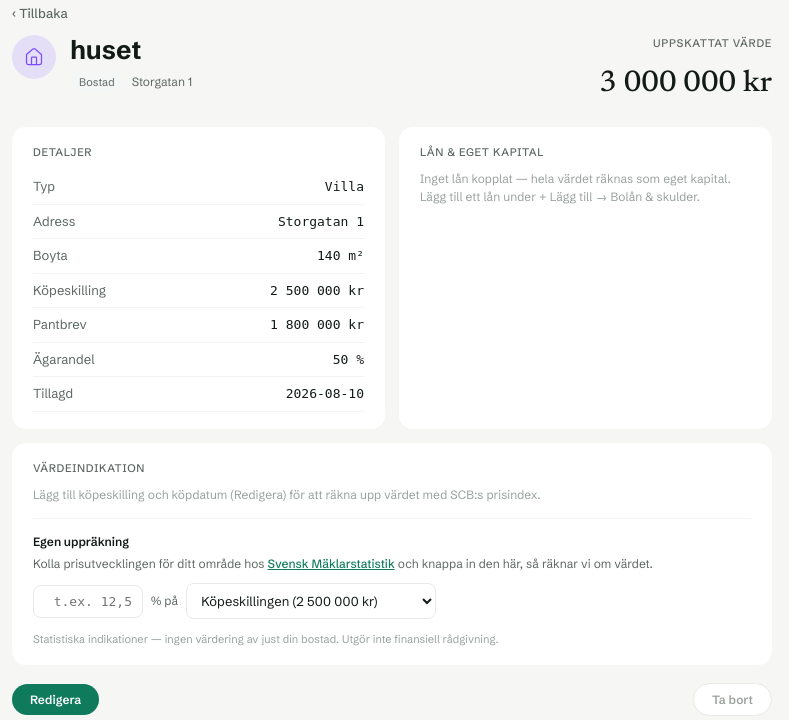
Test case: ManualAssetView › Ägande-sektionen (familjeläge) › prefills me from a legacy ownershipShare and others with 0
This screenshot has width=789, height=720.
Click the button "Redigera" at (56, 699), box [12,684,99,714]
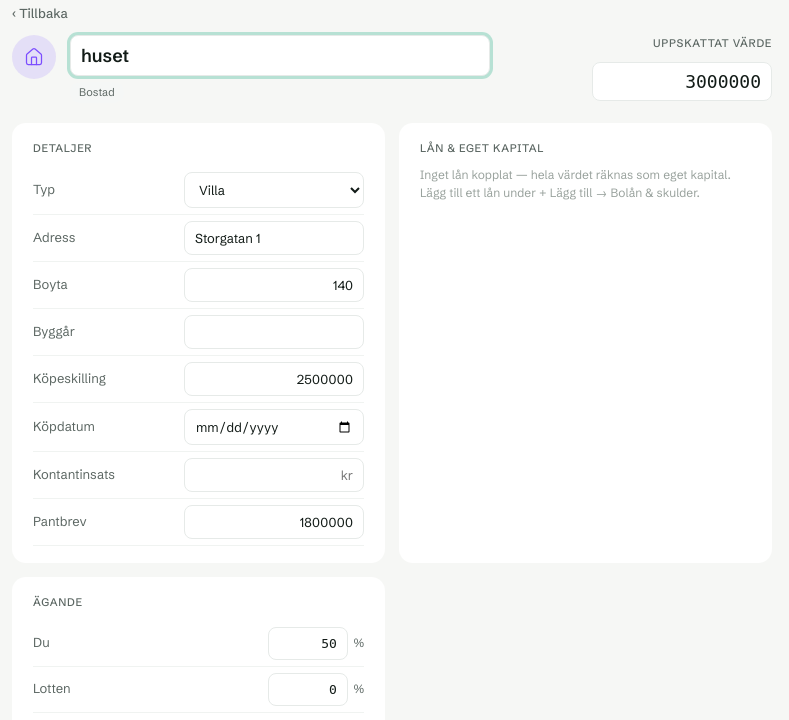
Now the field named "Ägarandel Du" holds "50", box [268,626,348,660]
Now the field named "Ägarandel Lotten" holds "0", box [268,672,348,706]
